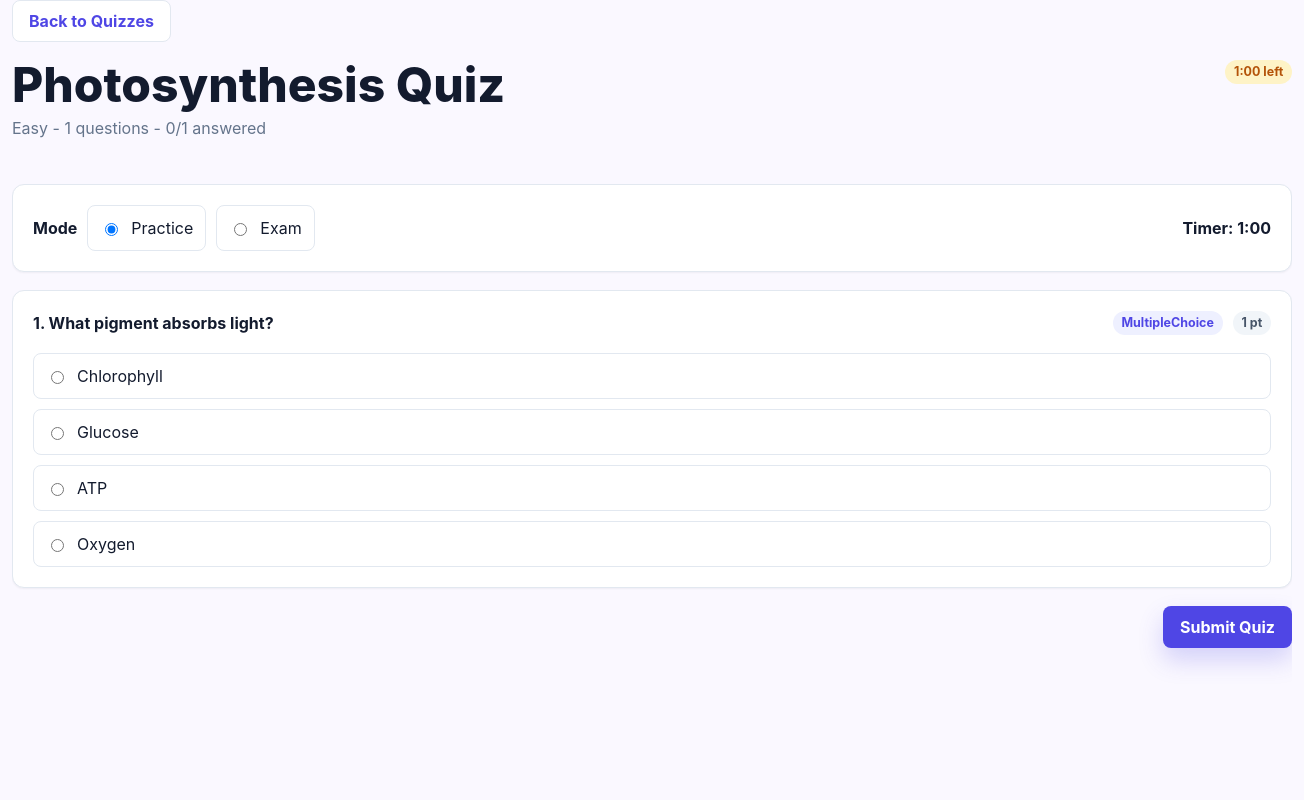
Test: QuizTaking › shows feedback in practice mode
Click the radio button labelled "Chlorophyll" at (58, 378), box [51,371,64,384]
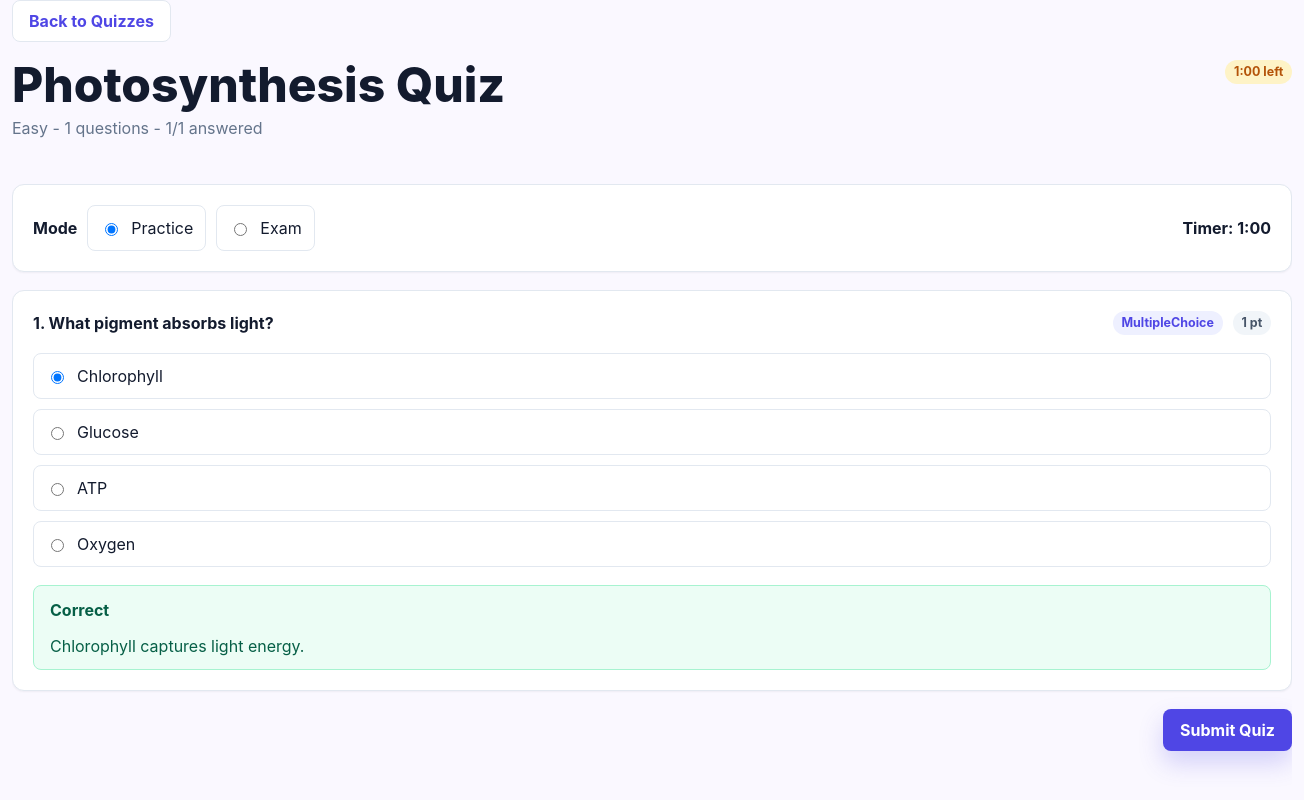
Result: the text "Correct" is shown at [50,600,109,620]
Result: the text "Chlorophyll captures light energy." is shown at [50,636,304,656]
